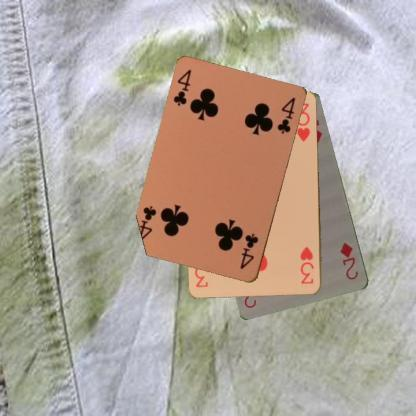2d: (337, 240, 360, 281)
3h: (298, 244, 316, 286)
4c: (237, 231, 260, 271), (170, 67, 193, 107)
